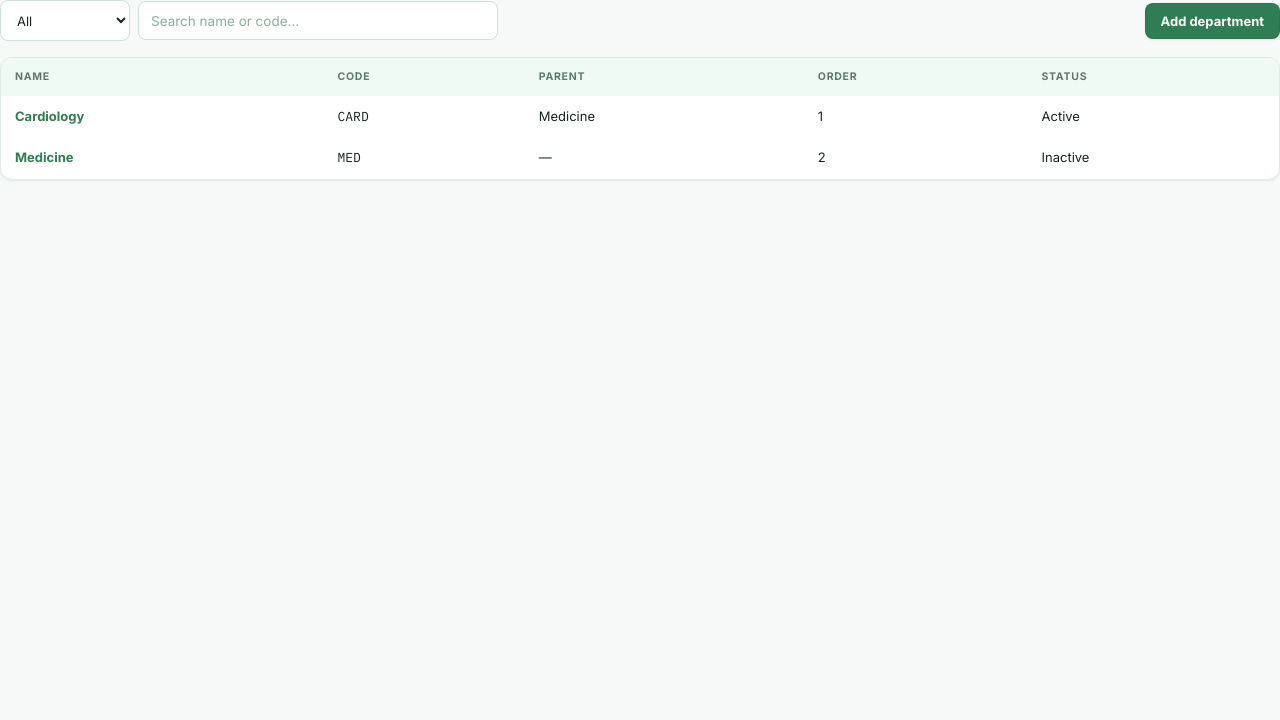
DepartmentsPage › omits a department and its descendants from the parent list
The width and height of the screenshot is (1280, 720).
Click the button "Medicine" at (44, 157), box [15,149,74,165]
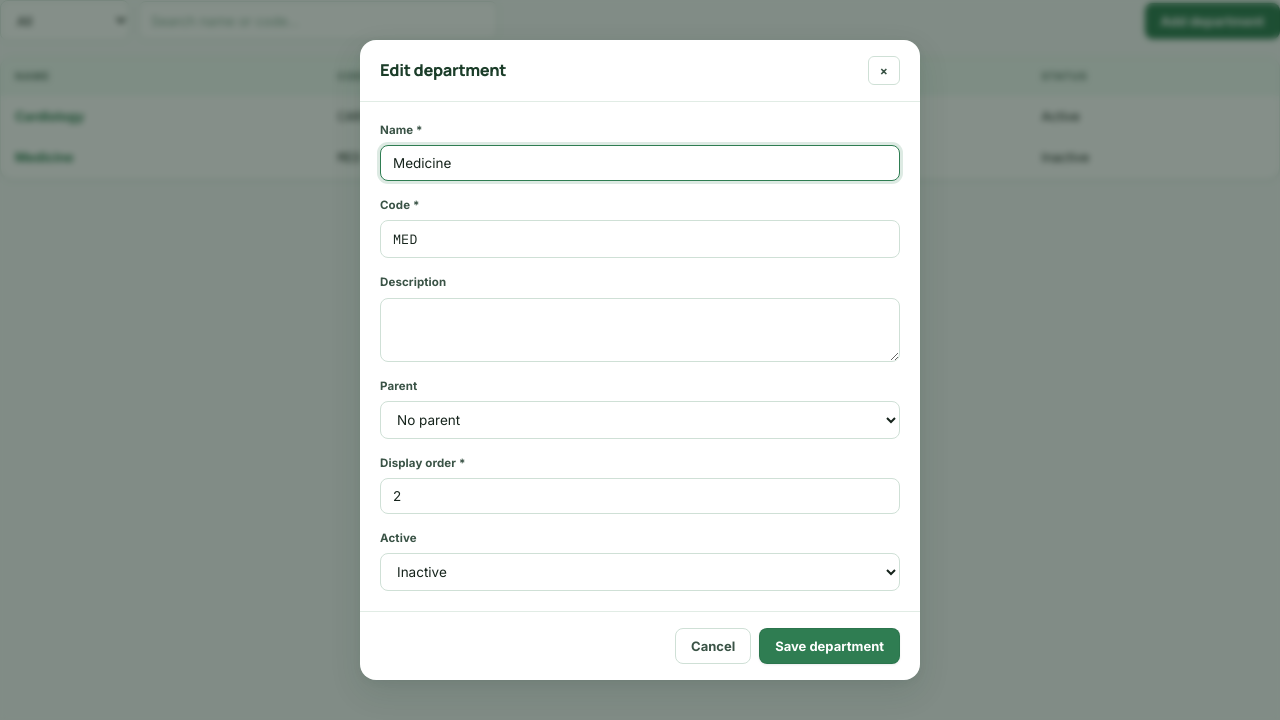
Expected: the button "Save department" is enabled, [759,628,900,664]
